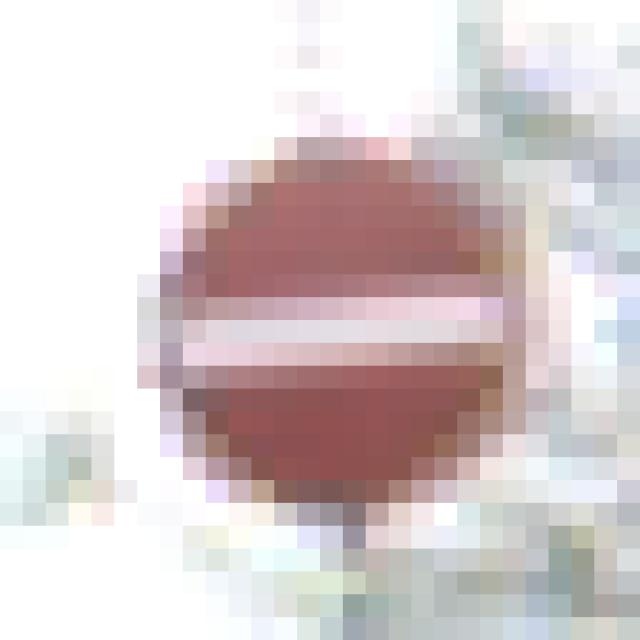No Entry: (138, 138, 504, 527)
